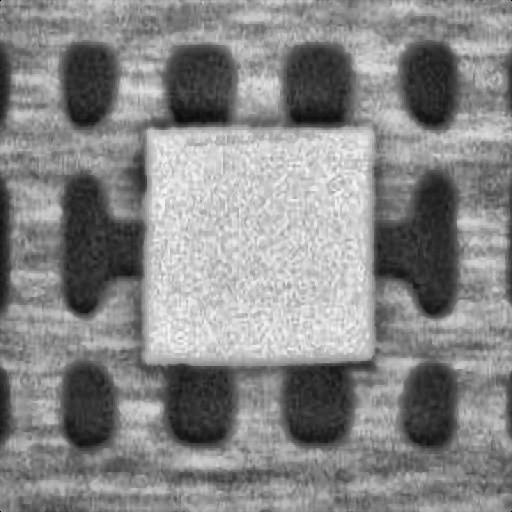DIE_CRACK: (273, 88, 475, 94)
